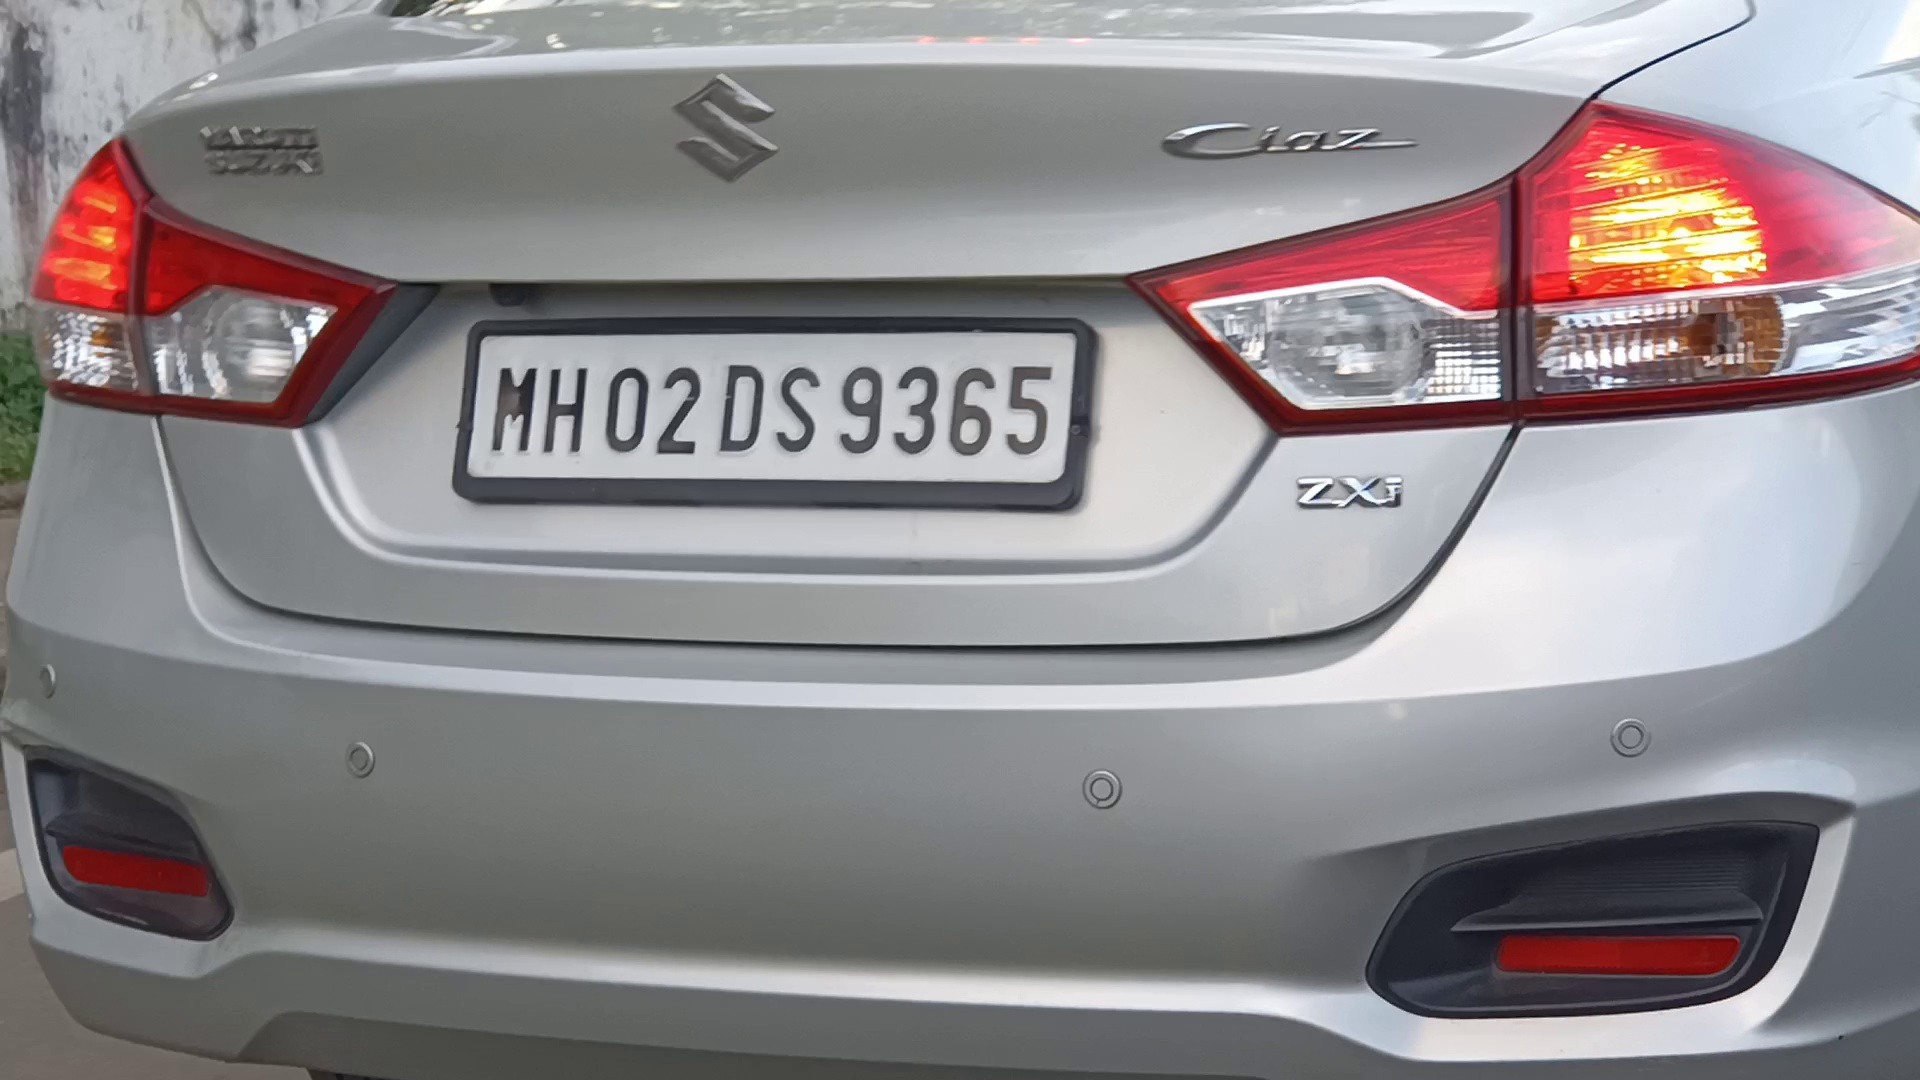MH02DS9365: (465, 328, 1075, 490)
